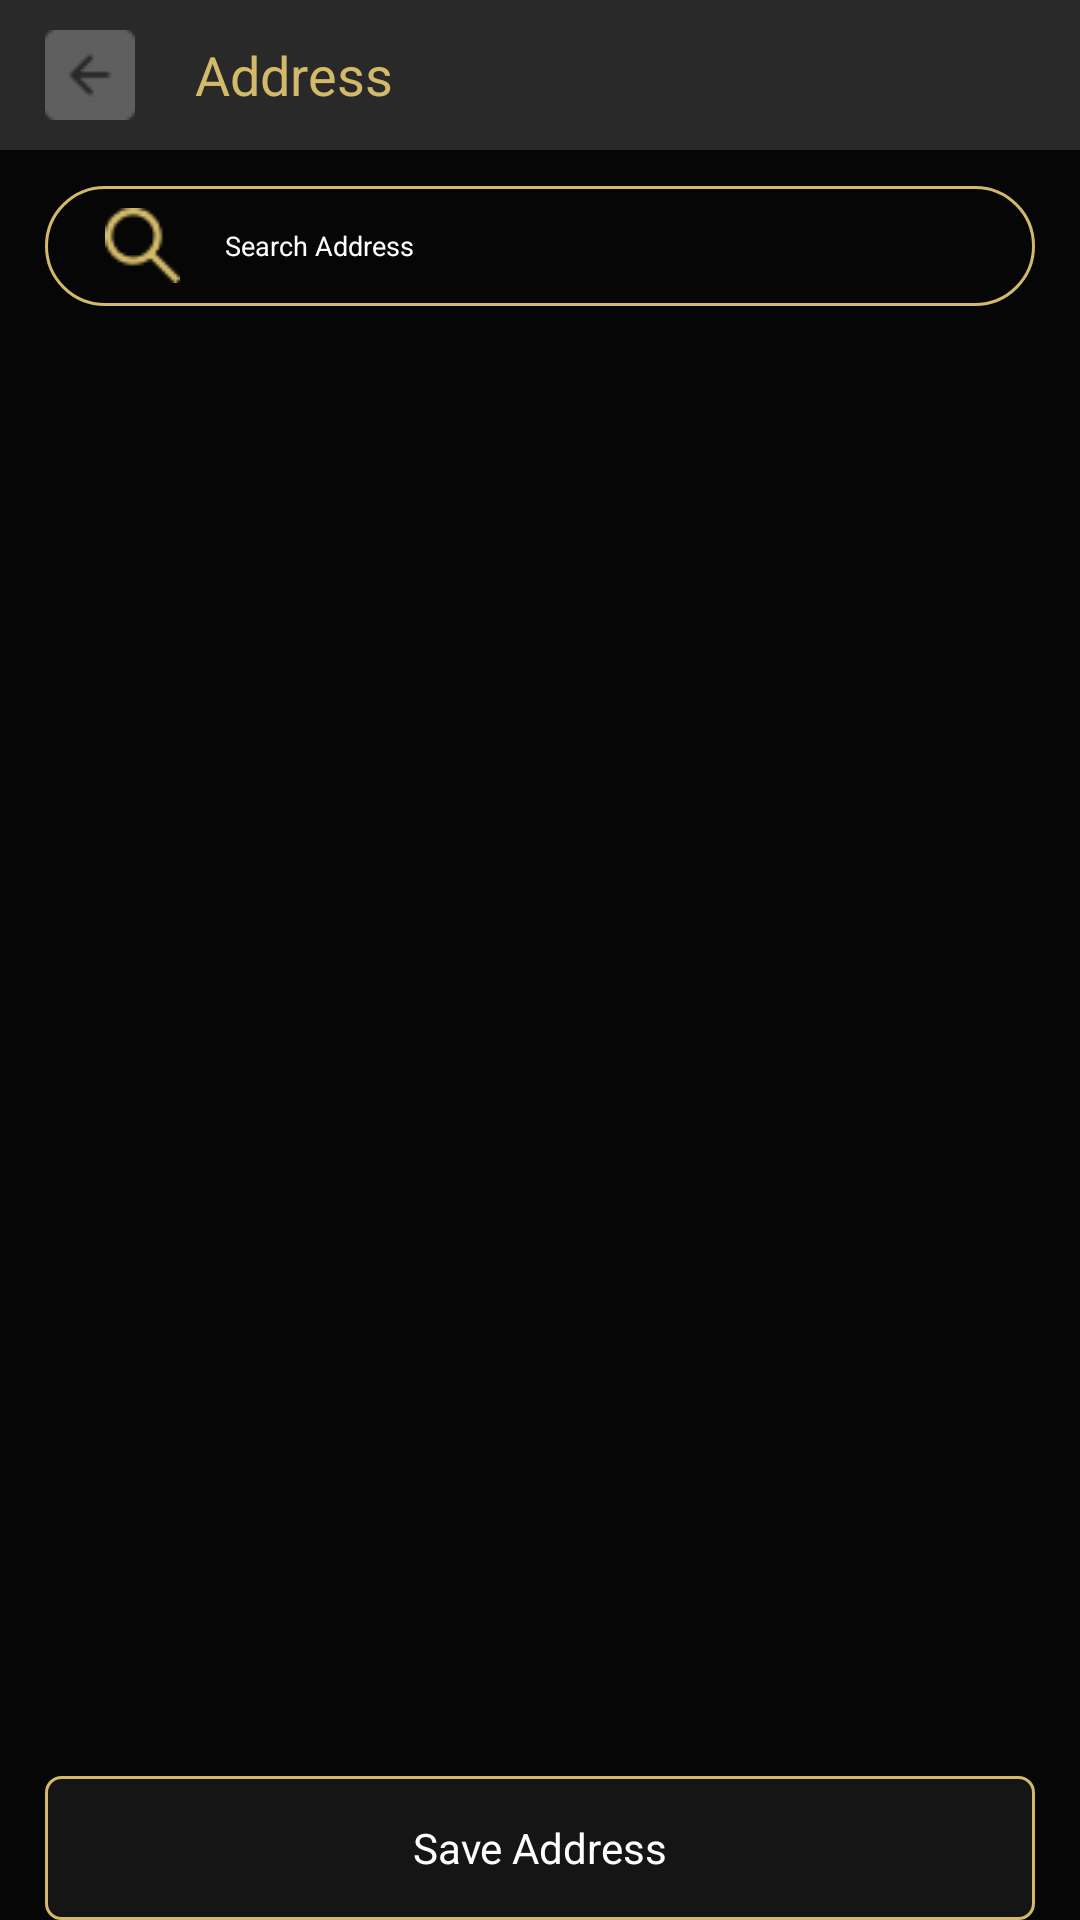

Point at icon controls on the screen. Image size 1080x1920, points as (x=x, y=y).
arrow: (x=90, y=75)
